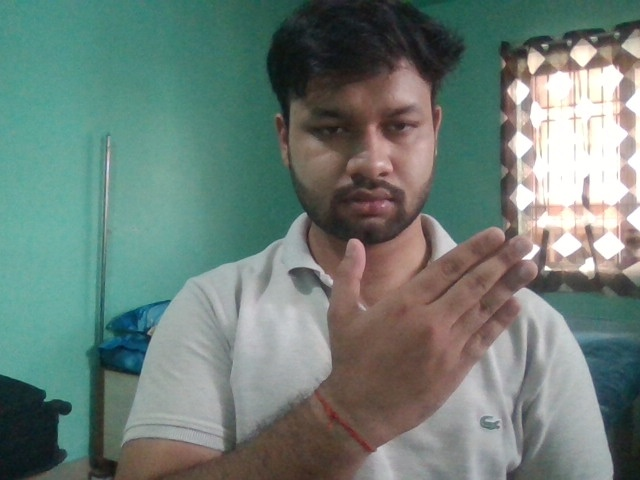Please: (324, 224, 541, 448)
